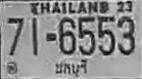1: (31, 17, 37, 55)
3: (117, 15, 134, 54)
5: (97, 15, 114, 55), (77, 16, 94, 55)
6: (58, 16, 75, 54)
7: (7, 17, 23, 55)
CBI: (53, 56, 90, 78)
